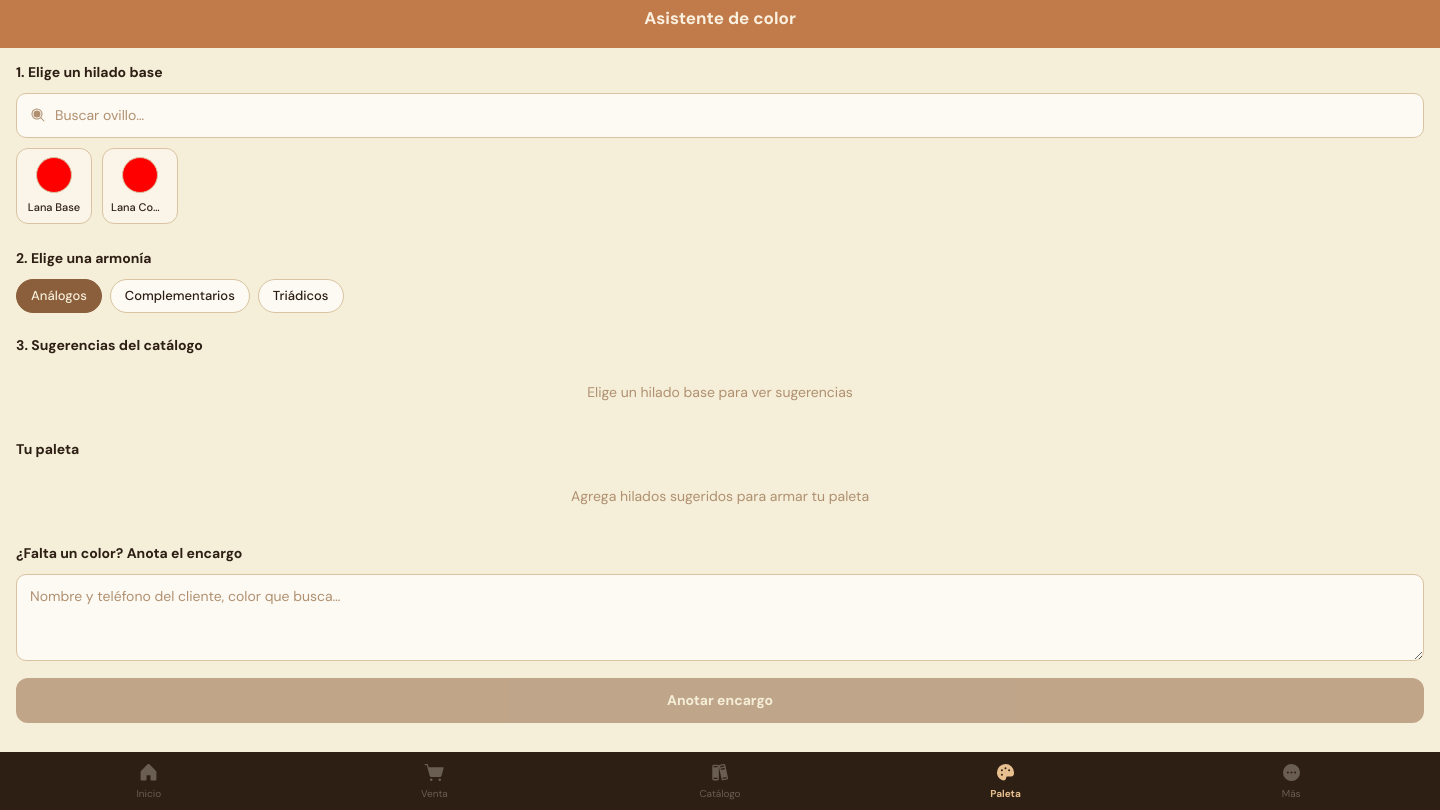
Test: PaletaScreen › should_update_suggestions_when_the_harmony_rule_changes
Step 1. Click the button "Lana Base" → (54, 186), box x1=16 y1=148 x2=92 y2=224
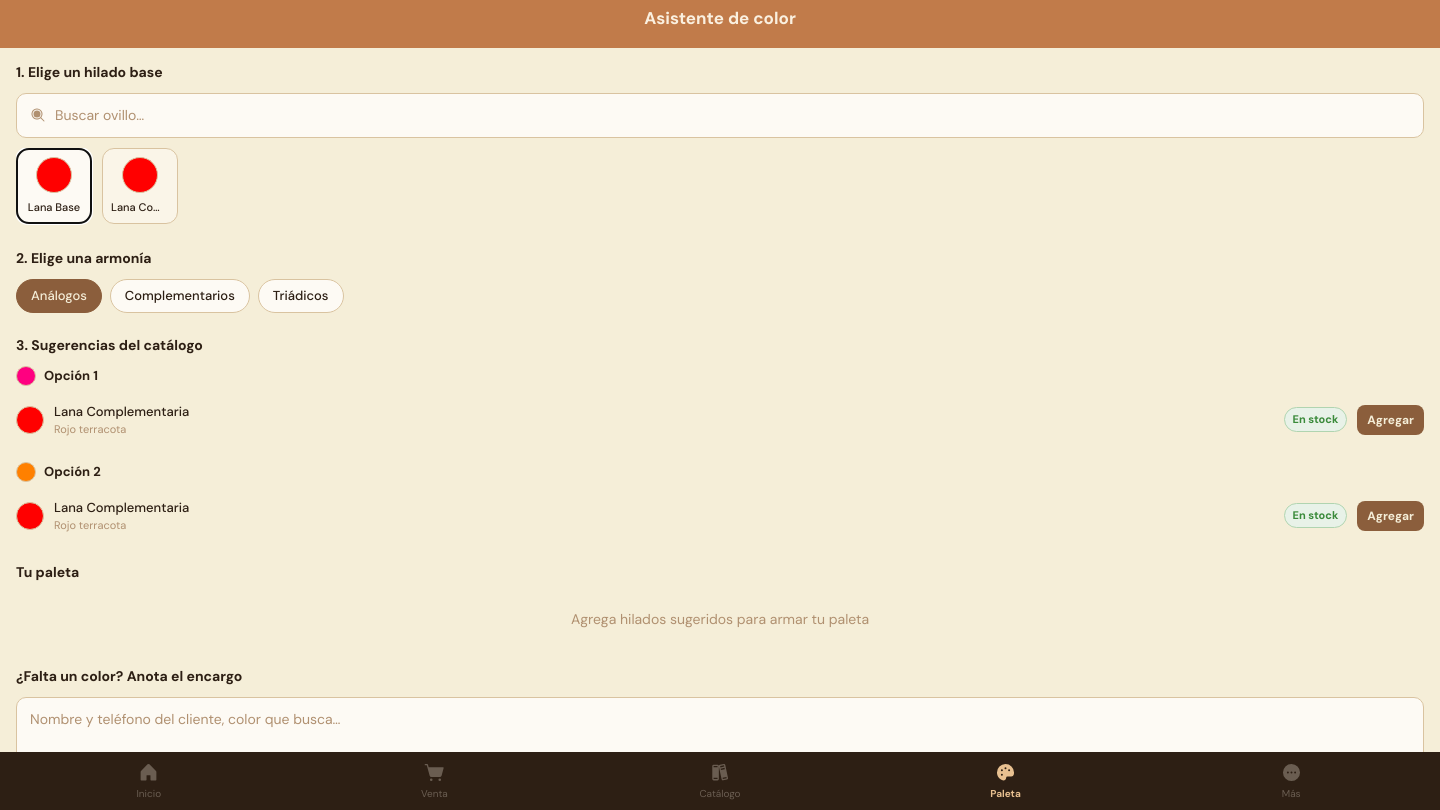
Expected: the heading "Opción 1" is shown, x1=44 y1=366 x2=98 y2=385
Expected: the heading "Opción 2" is shown, x1=44 y1=462 x2=101 y2=481
Complementary — a single target.
Step 2. Click the button "Complementarios" → (180, 296), box x1=110 y1=279 x2=250 y2=312
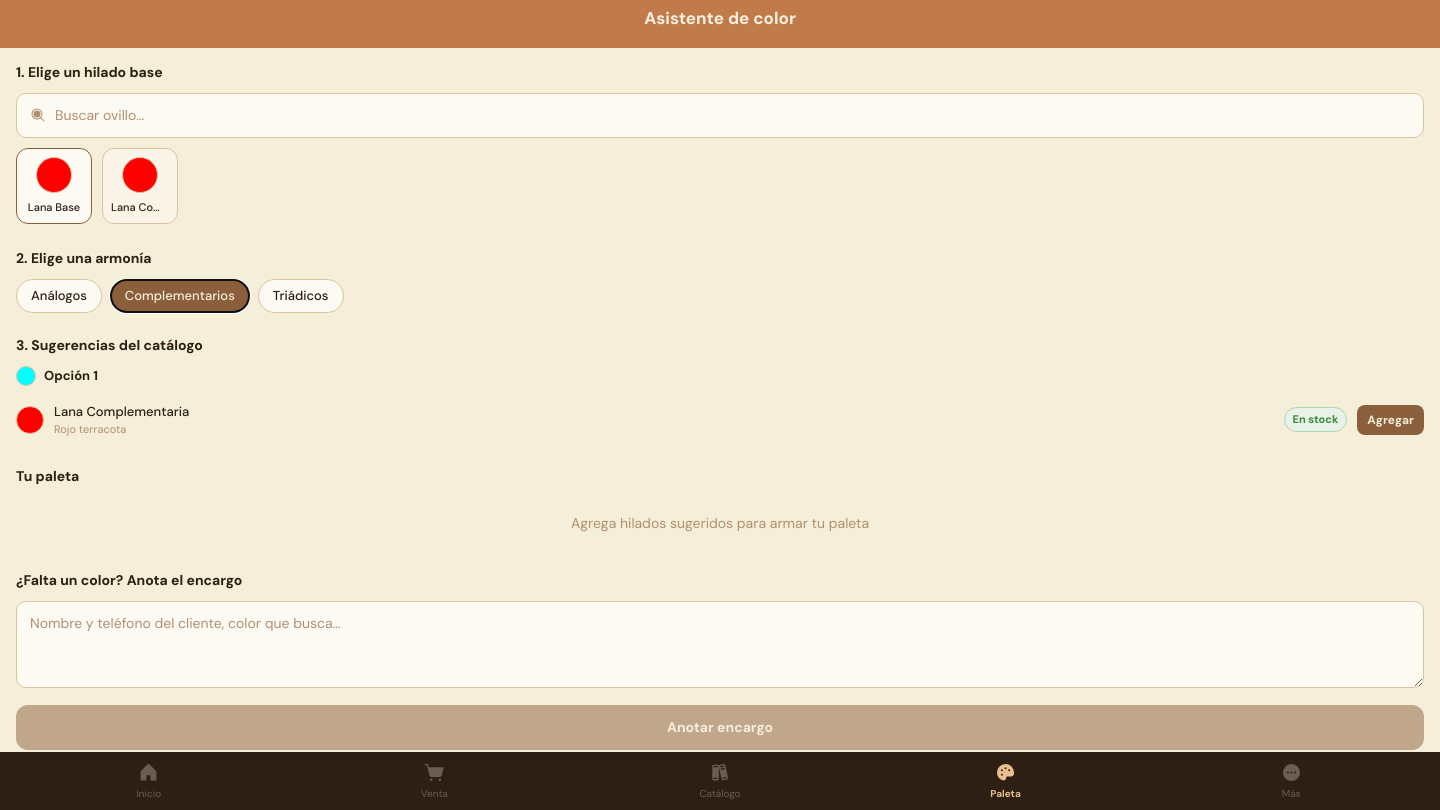
Expected: the heading "Opción 1" is shown, x1=44 y1=366 x2=98 y2=385
Expected: the heading "Opción 2" is gone
